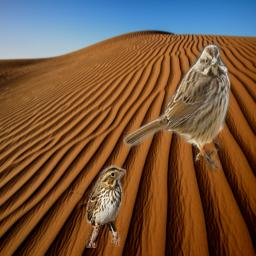Sparrow: (123, 43, 231, 173), (86, 165, 126, 248)
